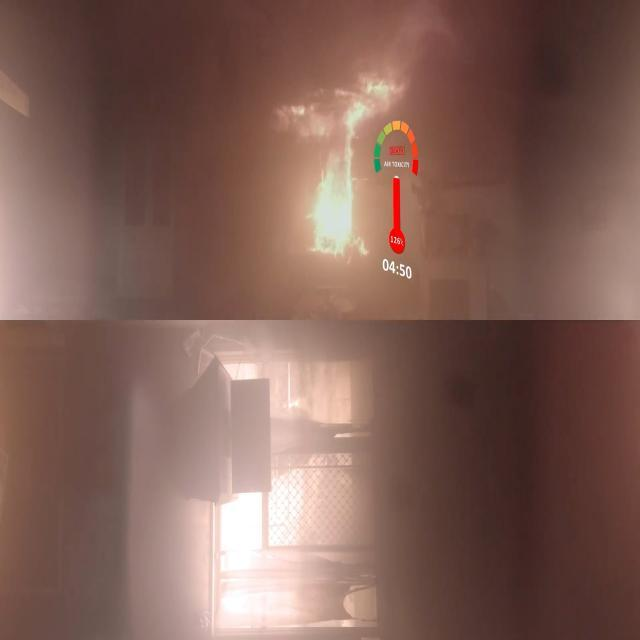Fire: (255, 62, 425, 314)
